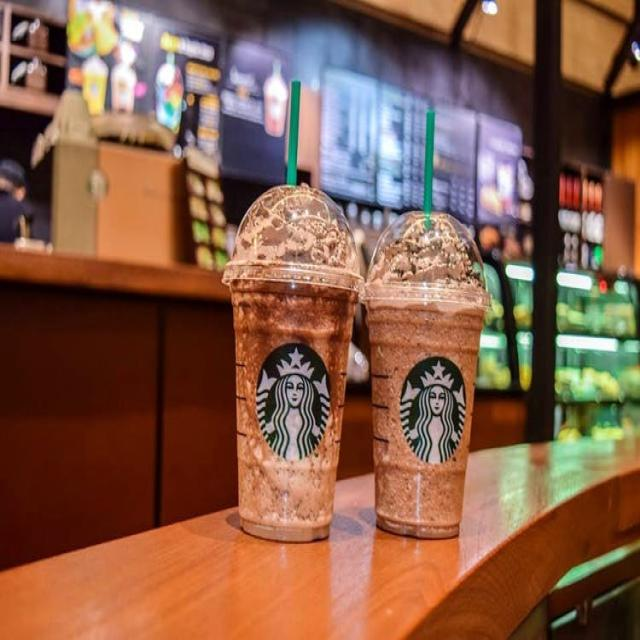starbucks: (249, 341, 336, 471), (397, 354, 468, 472)
